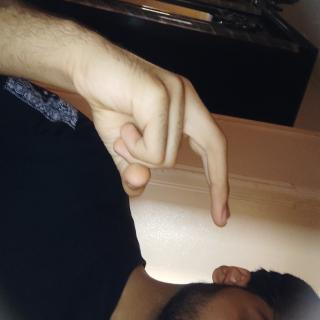ZAY: (17, 111, 171, 320)
